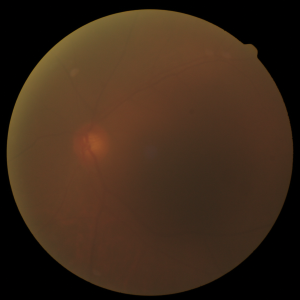cataract: (44, 99, 233, 202)
